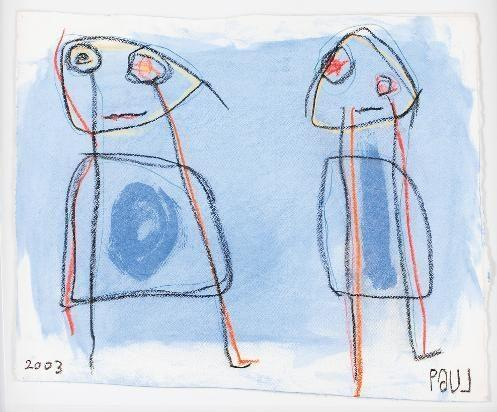person: (52, 30, 260, 367), (302, 22, 448, 399)
